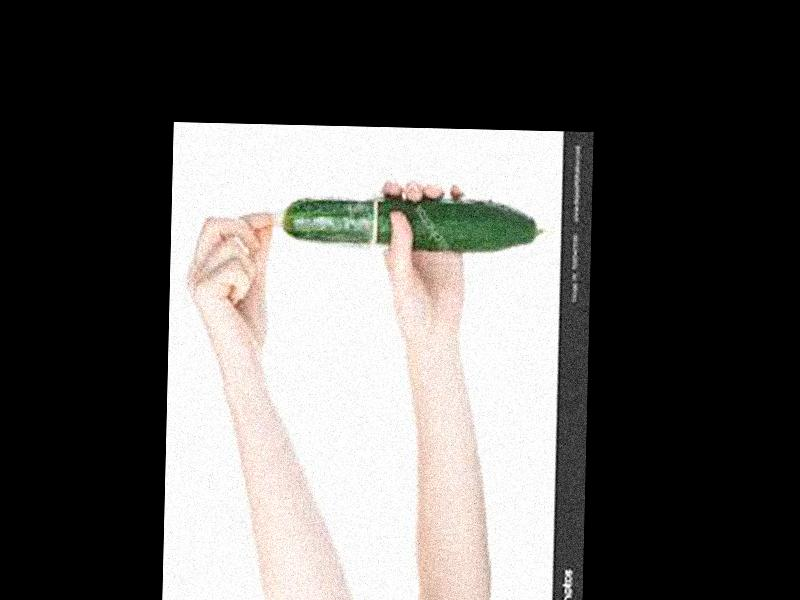Cucumber: (281, 196, 544, 249)
